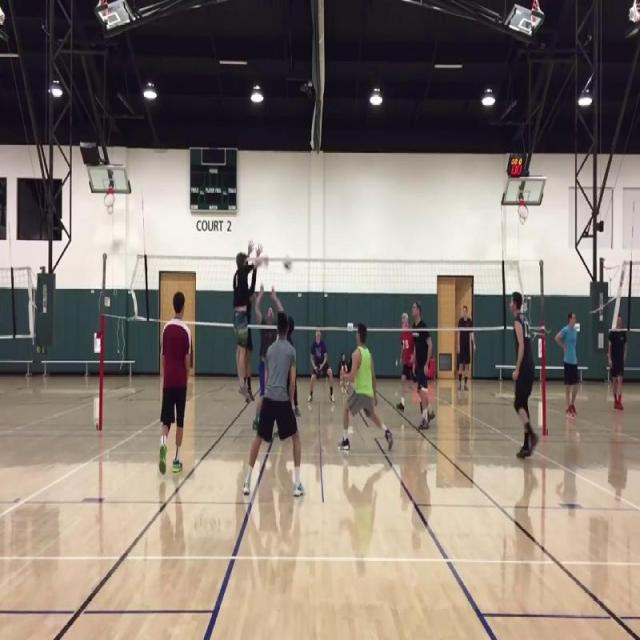volleyball: (282, 256, 292, 270)
